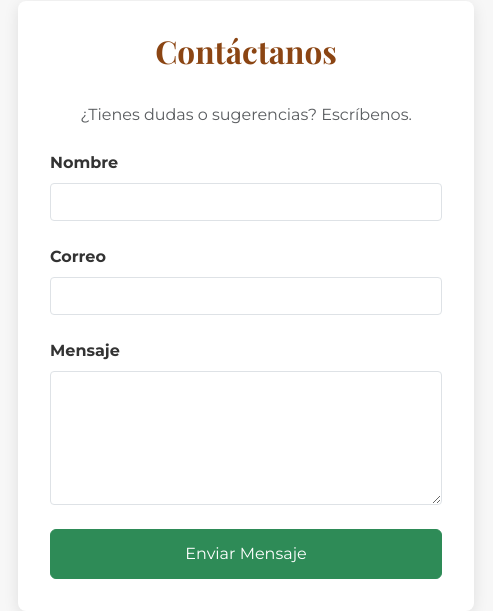
Test case: Página ContactoPage › envía el formulario con los datos ingresados y muestra confirmación
The width and height of the screenshot is (493, 611).
Type "Ana Soto" into the field labelled "Nombre". click: (246, 202)
box: [50,183,442,221]
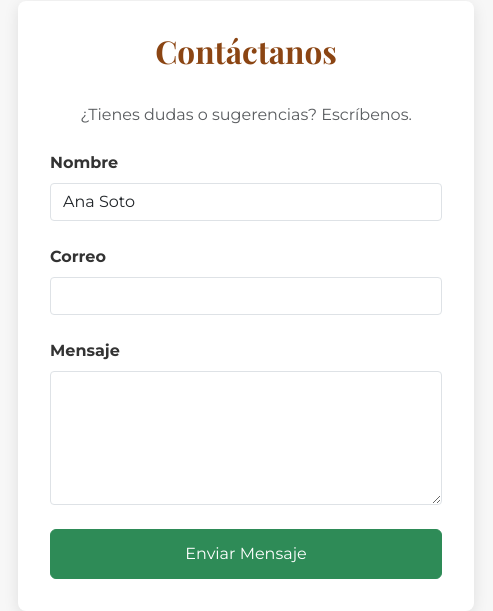
Type "ana@test.cl" into the field labelled "Correo". click: (246, 296)
box: [50,277,442,315]
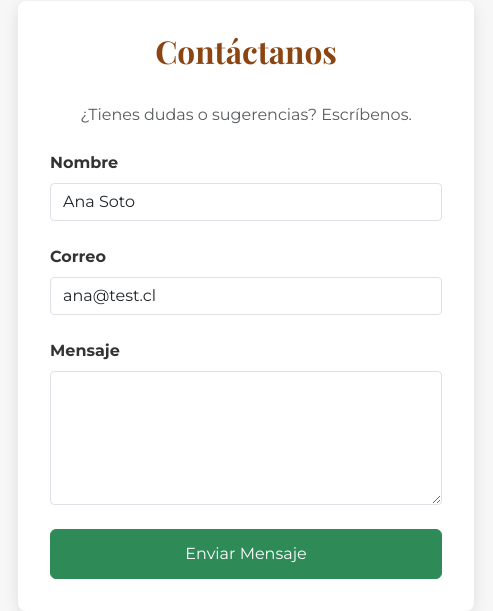
Type "Hola, tengo una consulta." into the text box labelled "Mensaje". click: (246, 438)
box: [50,371,442,505]
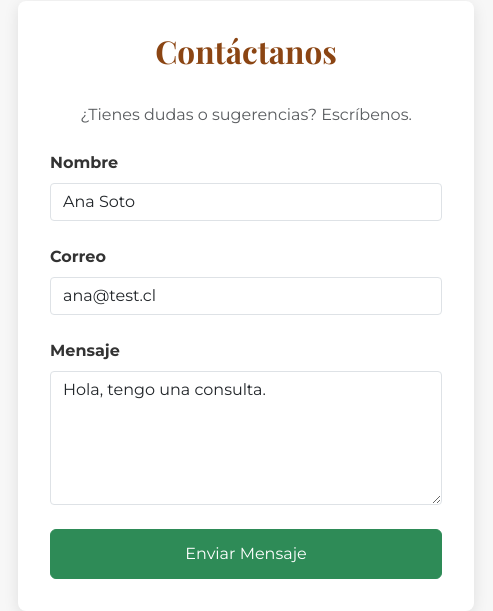
Click the button "Enviar Mensaje". click: click(246, 554)
box: [50,529,442,579]
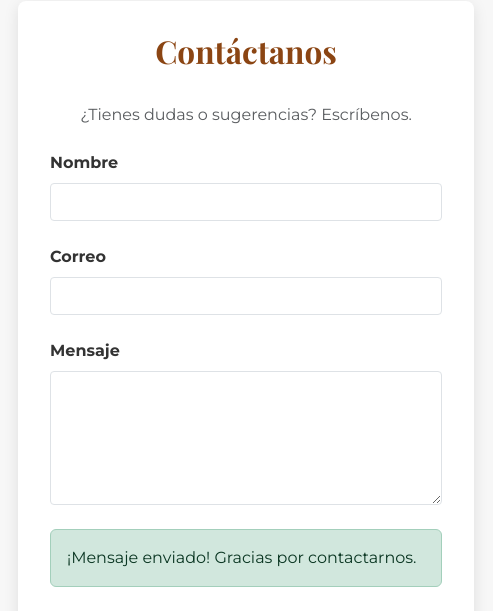
Now the text "¡Mensaje enviado! Gracias por contactarnos." is shown, box [50,529,442,587]
